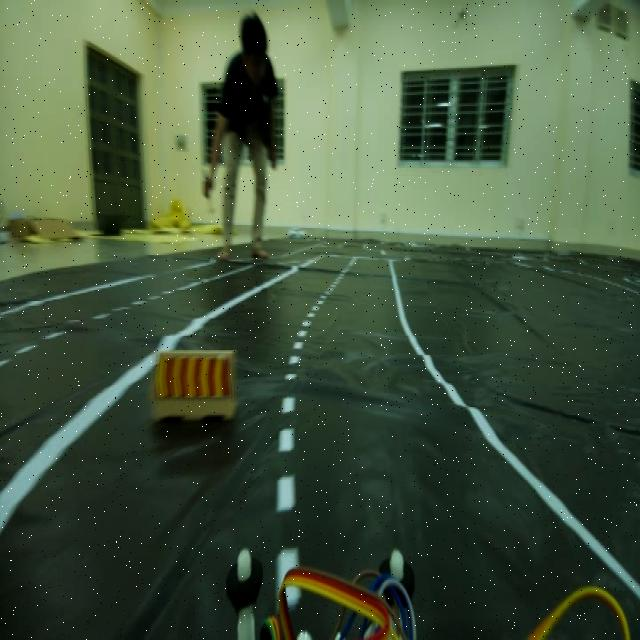roadblock: (153, 339, 243, 428)
